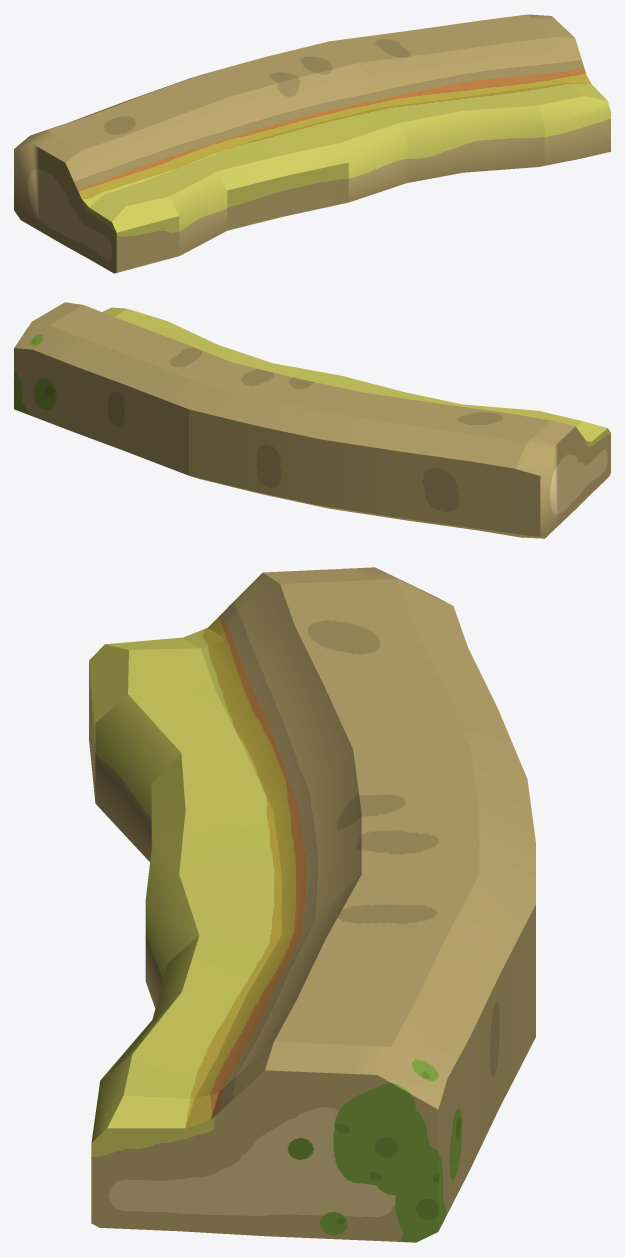
The model's file is RS_PizzaCrust.fbx.
The picture shows the model from 3 angles, top to bottom: view 1: azimuth 30°, elevation 25°; view 2: azimuth 150°, elevation 25°; view 3: azimuth 270°, elevation 25°; orthographic projection. The views are drawn at different scales.
Parts seen in each view (by area): view 1: Cube; view 2: Cube; view 3: Cube.
Boxes of the visible parts, bbox=[...] form: Cube: bbox=[14, 14, 610, 273]; Cube: bbox=[14, 302, 610, 538]; Cube: bbox=[89, 567, 535, 1242].
Bounding box in the file's own units: 15.36 × 2.56 × 5.65.
1 material, 1 textured.
